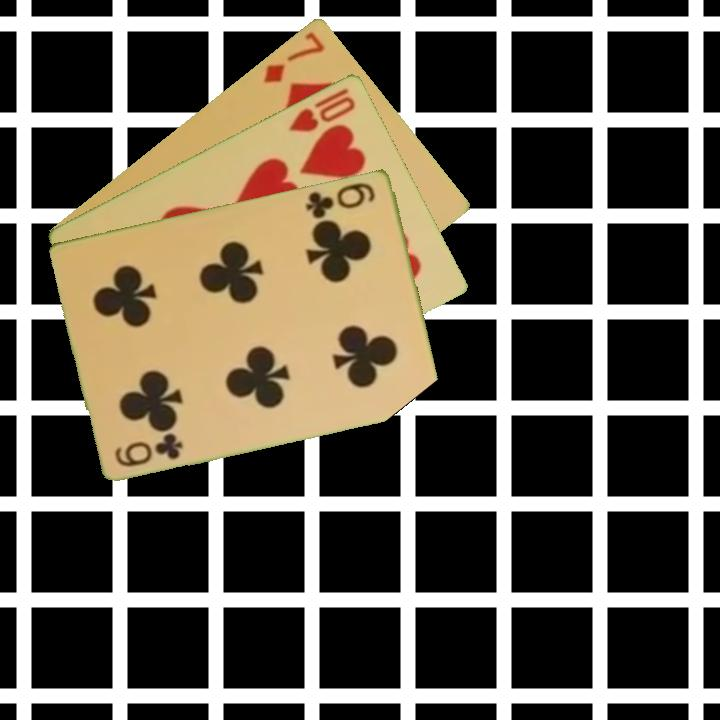10h: (286, 84, 359, 135)
6c: (302, 178, 379, 221), (111, 429, 187, 470)
7d: (259, 27, 328, 86)
